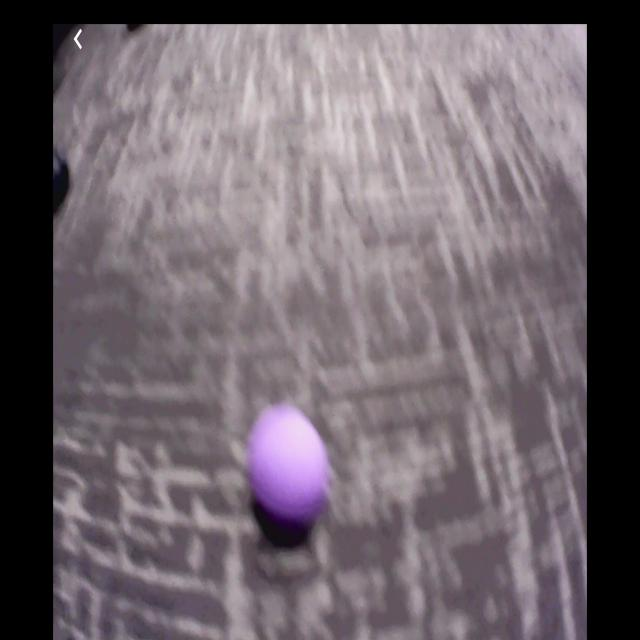ball: (250, 403, 332, 523)
